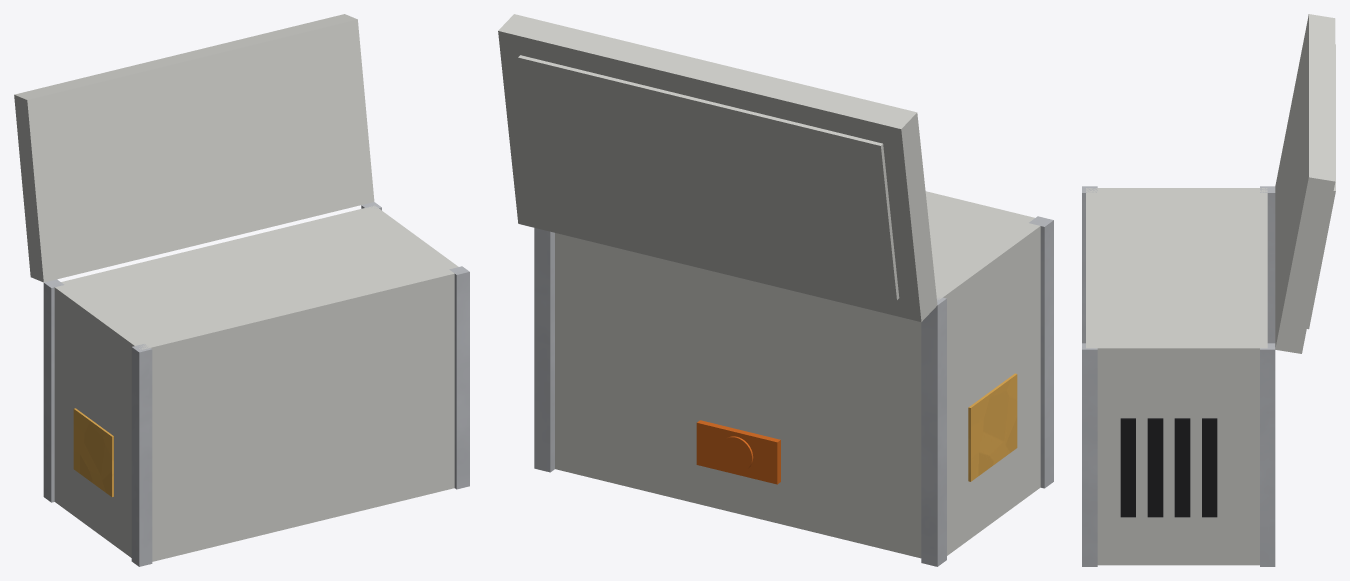
The model's file is rover26_battery_bay_s_lid_open.glb.
3 views of the same model, side by side, from view 1: azimuth 30°, elevation 25°; view 2: azimuth 150°, elevation 25°; view 3: azimuth 270°, elevation 25° (orthographic). The views are drawn at different scales.
Visible parts, largest first — view 1: body, lid, frame, gold_label; view 2: body, lid, frame, port_connector, gold_label; view 3: body, lid, frame, vents.
Part boxes in pixels (bbox=[...]): body: bbox=[54, 205, 458, 561]; lid: bbox=[14, 14, 374, 282]; frame: bbox=[43, 202, 469, 566]; gold_label: bbox=[73, 408, 113, 496]; body: bbox=[555, 191, 1040, 558]; lid: bbox=[498, 14, 937, 322]; frame: bbox=[534, 216, 1053, 566]; port_connector: bbox=[696, 420, 780, 484]; gold_label: bbox=[968, 373, 1017, 481]; body: bbox=[1086, 188, 1267, 565]; lid: bbox=[1275, 14, 1335, 353]; frame: bbox=[1082, 186, 1275, 566]; vents: bbox=[1120, 418, 1217, 517].
Bounding box in the file's own units: 1 × 1.11 × 0.6569.
Materials: 5 (2 with a texture image).
